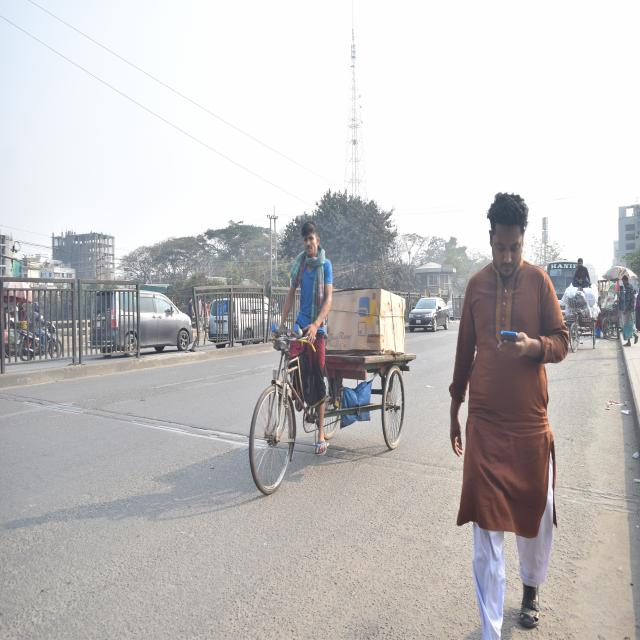bus: (548, 257, 585, 303)
car: (90, 279, 190, 359), (205, 282, 272, 340), (408, 287, 451, 348)
motorbike: (18, 313, 57, 362)
